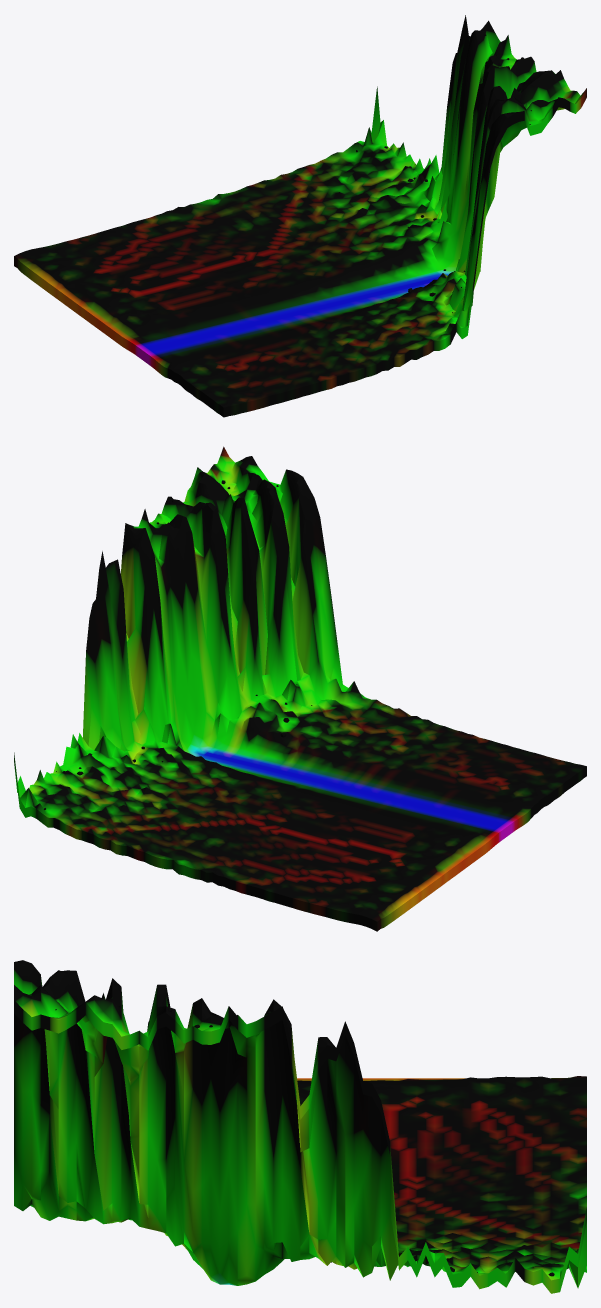
Rendered from Terrain_04_01.fbx.
The picture shows the model from 3 angles, top to bottom: view 1: azimuth 30°, elevation 25°; view 2: azimuth 150°, elevation 25°; view 3: azimuth 270°, elevation 25°; orthographic projection. The views are drawn at different scales.
Parts seen in each view (by area): view 1: Terrain_04_01_LOD0; view 2: Terrain_04_01_LOD0; view 3: Terrain_04_01_LOD0.
Part boxes in pixels (x1=…): Terrain_04_01_LOD0: x1=14, y1=15, x2=586, y2=417; Terrain_04_01_LOD0: x1=14, y1=446, x2=586, y2=931; Terrain_04_01_LOD0: x1=14, y1=960, x2=586, y2=1293.
Size of what is drawn, in the model's own units: 384 by 247 by 384.
